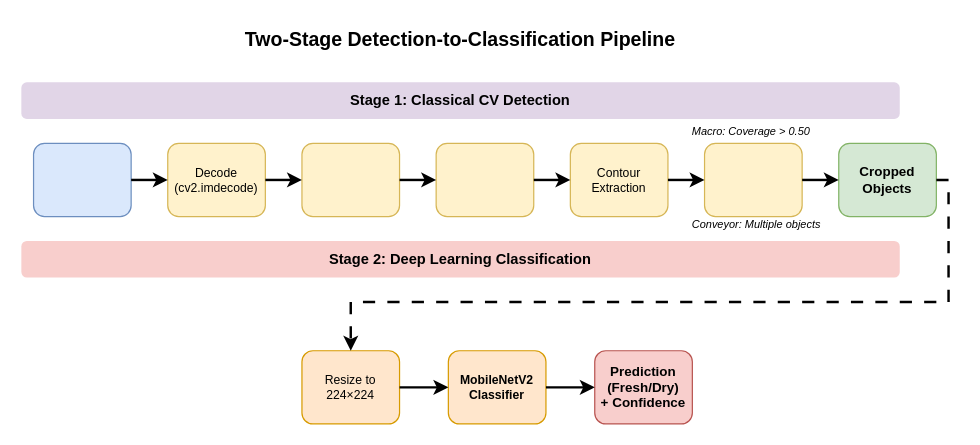
Image size: 980x445. Some labels were removed from this diagram. The centre of each missing label's shape, as x and y in pixels:
"Binary Mask (Otsu + Morph)" belongs at point 484,179.
"HSV Saturation Channel" belongs at point 350,179.
"Raw Image Bytes" belongs at point 81,179.
"Scene Logic (Macro/Conveyor)" belongs at point 752,179.
